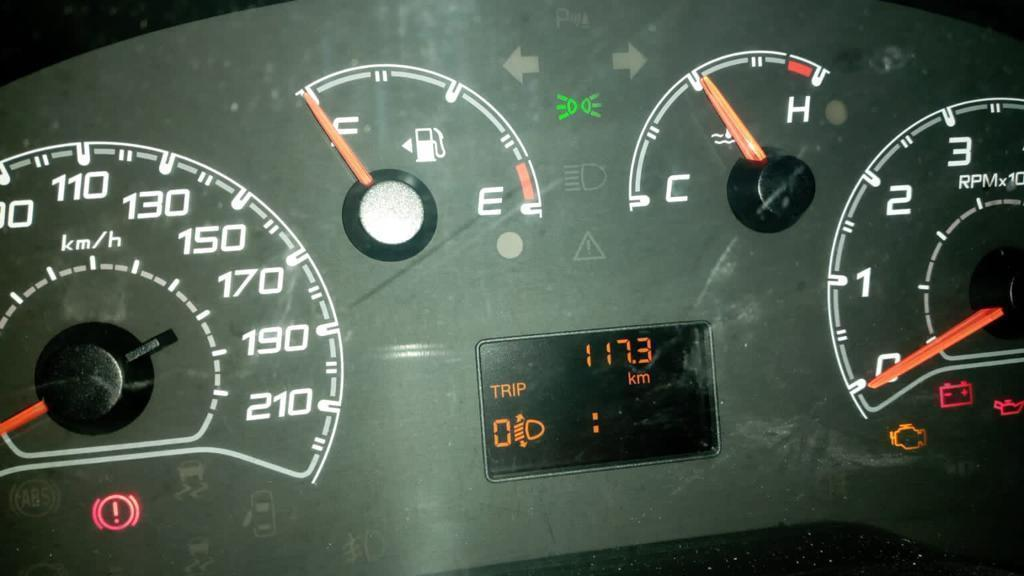,: (632, 357, 636, 365)
0: (490, 416, 512, 451)
1: (604, 340, 613, 370), (585, 341, 593, 369)
3: (637, 336, 654, 364)
7: (616, 337, 631, 365)
X: (589, 409, 600, 438), (500, 383, 511, 398), (516, 380, 526, 396), (637, 372, 650, 384), (626, 370, 636, 385), (490, 383, 499, 399), (511, 380, 516, 397)
odometer: (470, 316, 725, 483)
